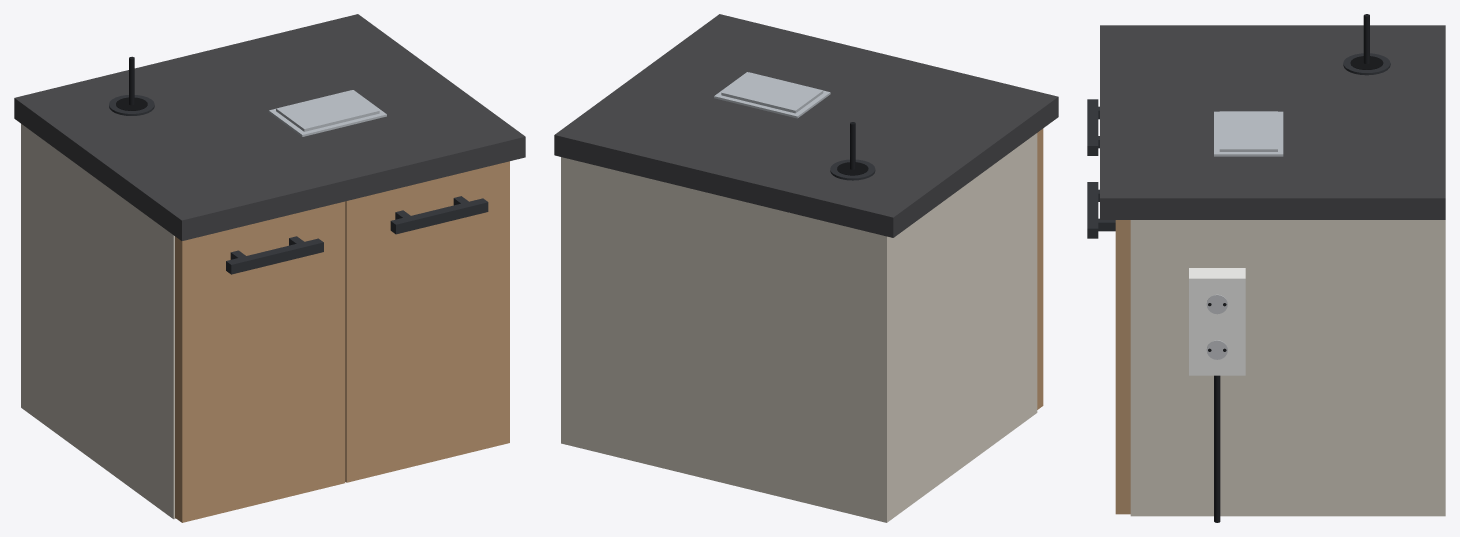
The model's file is outlet.glb.
3 views of the same model, side by side, from view 1: azimuth 30°, elevation 25°; view 2: azimuth 150°, elevation 25°; view 3: azimuth 270°, elevation 25° (orthographic). The views are drawn at different scales.
Visible parts, largest first — view 1: 상판, 문짝, 문짝.001, 하부장 옆판 왼쪽, 매립형 콘센트 뚜껑, 문 손잡이.001, 문 손잡이; view 2: 하부장 뒤판, 상판, 하부장 옆판 왼쪽, 하부장 밑판, 하부장 옆판 오른쪽, 매립형 콘센트 뚜껑, 문짝, 하부장 윗판; view 3: 하부장 옆판 오른쪽, 상판, 돌출형 콘센트, 문짝.001, 매립형 콘센트 뚜껑, 전선, 문 손잡이, 문 손잡이.001, 전선캡.
Part boxes in pixels (left/top/right/bottom): 상판: left=14, top=14, right=525, bottom=240; 문짝: left=175, top=201, right=345, bottom=522; 문짝.001: left=345, top=161, right=509, bottom=482; 하부장 옆판 왼쪽: left=21, top=124, right=175, bottom=519; 매립형 콘센트 뚜껑: left=276, top=90, right=379, bottom=131; 문 손잡이.001: left=390, top=198, right=488, bottom=234; 문 손잡이: left=226, top=238, right=323, bottom=274; 하부장 뒤판: left=572, top=160, right=874, bottom=507; 상판: left=554, top=14, right=1058, bottom=237; 하부장 옆판 왼쪽: left=875, top=133, right=1037, bottom=522; 하부장 밑판: left=572, top=434, right=874, bottom=519; 하부장 옆판 오른쪽: left=561, top=157, right=572, bottom=446; 매립형 콘센트 뚜껑: left=721, top=72, right=823, bottom=113; 문짝: left=1037, top=128, right=1043, bottom=409; 하부장 윗판: left=573, top=160, right=874, bottom=242; 하부장 옆판 오른쪽: left=1130, top=220, right=1445, bottom=516; 상판: left=1100, top=25, right=1445, bottom=219; 돌출형 콘센트: left=1189, top=268, right=1245, bottom=375; 문짝.001: left=1115, top=220, right=1130, bottom=514; 매립형 콘센트 뚜껑: left=1219, top=111, right=1277, bottom=151; 전선: left=1214, top=375, right=1220, bottom=522; 문 손잡이: left=1087, top=99, right=1098, bottom=155; 문 손잡이.001: left=1087, top=182, right=1098, bottom=238; 전선캡: left=1343, top=53, right=1390, bottom=75.
Bounding box in the file's own units: 0.5432 × 0.52 × 0.455.
